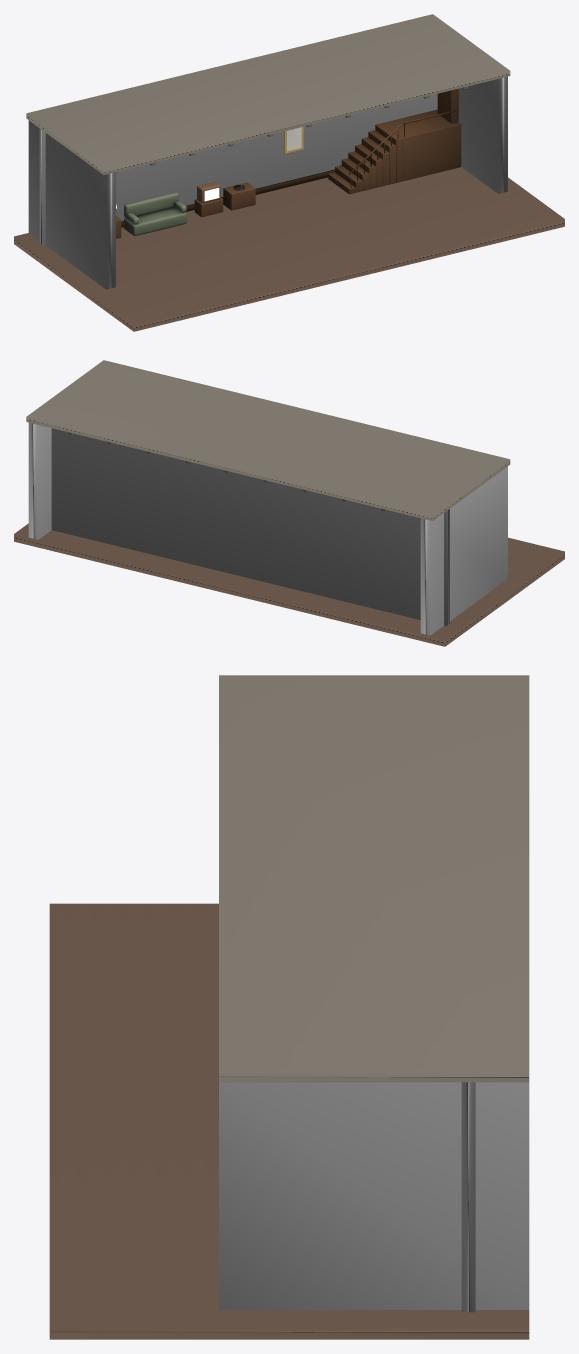
Rendered from palmer.glb.
3 views of the same model, one above another, from view 1: azimuth 30°, elevation 25°; view 2: azimuth 150°, elevation 25°; view 3: azimuth 270°, elevation 25° (orthographic). The views are drawn at different scales.
Parts seen in each view (by area): view 1: Floor, Ceiling, Wall • back, Wall • left, Wall • right, Landing, Sofa seat, Sofa back, Record cabinet, Upstairs door frame, Skirting, Stair.007 (+5 smaller); view 2: Wall • back, Ceiling, Floor, Wall • left, Wall • right; view 3: Ceiling, Floor, Wall • right, Wall • back.
Part boxes in pixels (x1,y1,x2,y2): Floor: [14, 167, 564, 331]; Ceiling: [26, 14, 510, 174]; Wall • back: [39, 94, 437, 245]; Wall • left: [28, 120, 115, 289]; Wall • right: [458, 76, 507, 193]; Landing: [382, 109, 461, 181]; Sofa seat: [123, 207, 186, 235]; Sofa back: [124, 192, 178, 217]; Record cabinet: [223, 182, 255, 210]; Upstairs door frame: [437, 88, 458, 123]; Skirting: [121, 169, 334, 227]; Stair.007: [375, 123, 402, 182]; Wall • back: [51, 428, 449, 626]; Ceiling: [26, 360, 510, 520]; Floor: [14, 523, 564, 646]; Wall • left: [420, 466, 507, 635]; Wall • right: [28, 422, 51, 539]; Ceiling: [219, 675, 529, 1082]; Floor: [49, 903, 529, 1339]; Wall • right: [219, 1082, 529, 1309]; Wall • back: [461, 1082, 475, 1312].
Bounding box in the file's own units: 35.3 × 10 × 17.
